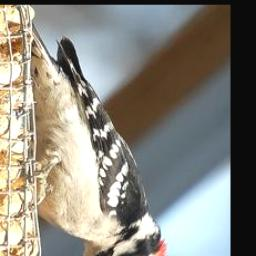Woodpecker: (22, 26, 170, 256)
